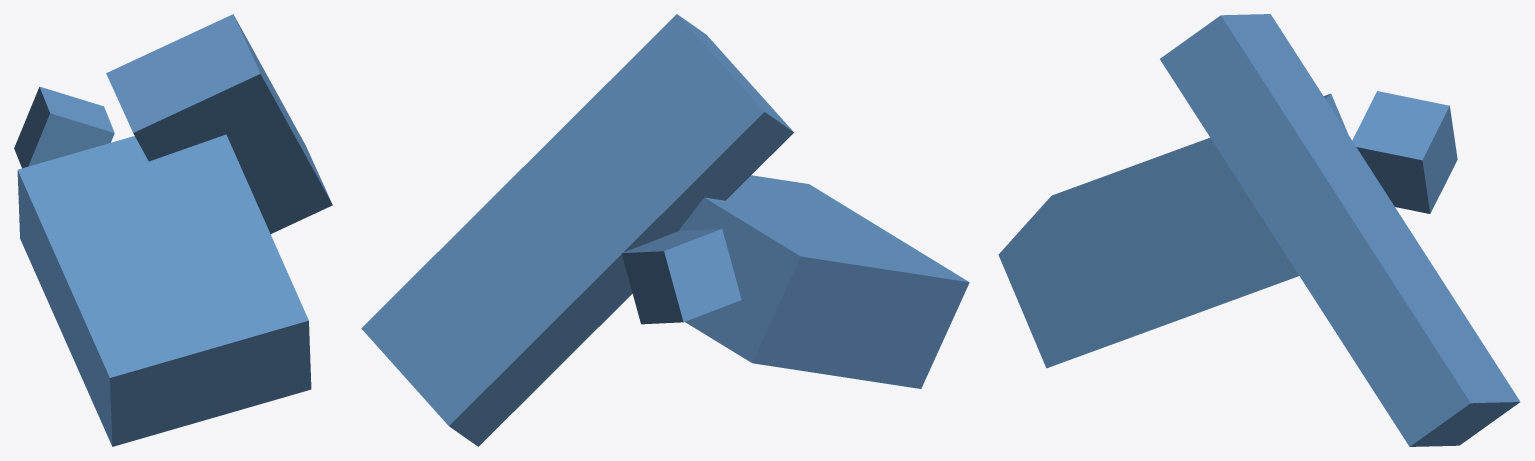
Rendered from seed_pivots_geometric.fbx.
3 renders of one model, left to right at view 1: azimuth 30°, elevation 25°; view 2: azimuth 150°, elevation 25°; view 3: azimuth 270°, elevation 25°, orthographic. The views are drawn at different scales.
Parts seen in each view (by area): view 1: GeoParent, GeoGrandchild, GeoChild; view 2: GeoGrandchild, GeoParent, GeoChild; view 3: GeoGrandchild, GeoParent, GeoChild.
Boxes of the visible parts, x1,y1,x2,y2 form: GeoParent: (17, 134, 311, 446); GeoGrandchild: (106, 14, 332, 233); GeoChild: (14, 86, 114, 168); GeoGrandchild: (361, 14, 793, 446); GeoParent: (679, 175, 969, 388); GeoChild: (621, 229, 741, 324); GeoGrandchild: (1160, 14, 1520, 446); GeoParent: (998, 93, 1348, 368); GeoChild: (1352, 91, 1457, 213).
Size of the model in its own units: 9.48 by 8.25 by 10.03.
